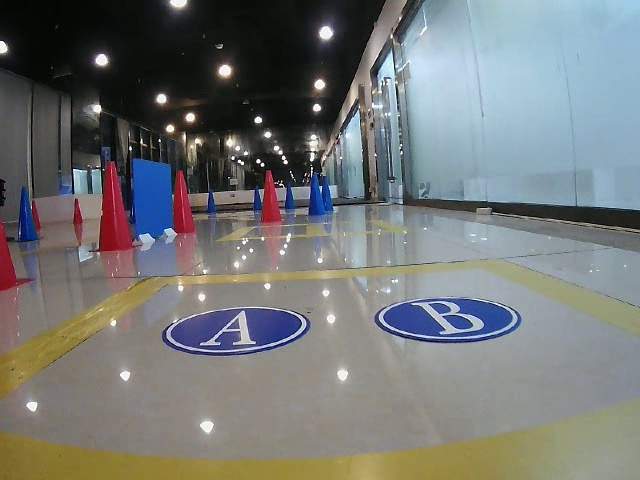A: (164, 306, 311, 352)
B: (380, 291, 516, 343)
